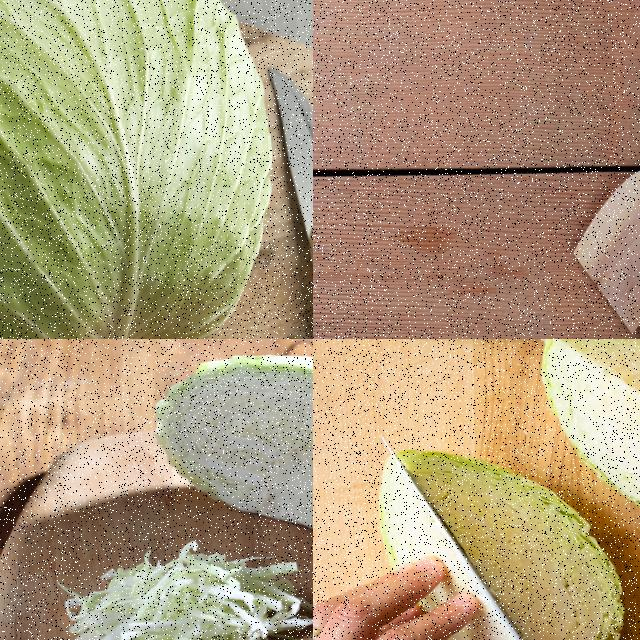cabbage: (0, 0, 279, 338), (382, 441, 630, 639), (152, 347, 312, 558), (542, 339, 639, 543)
